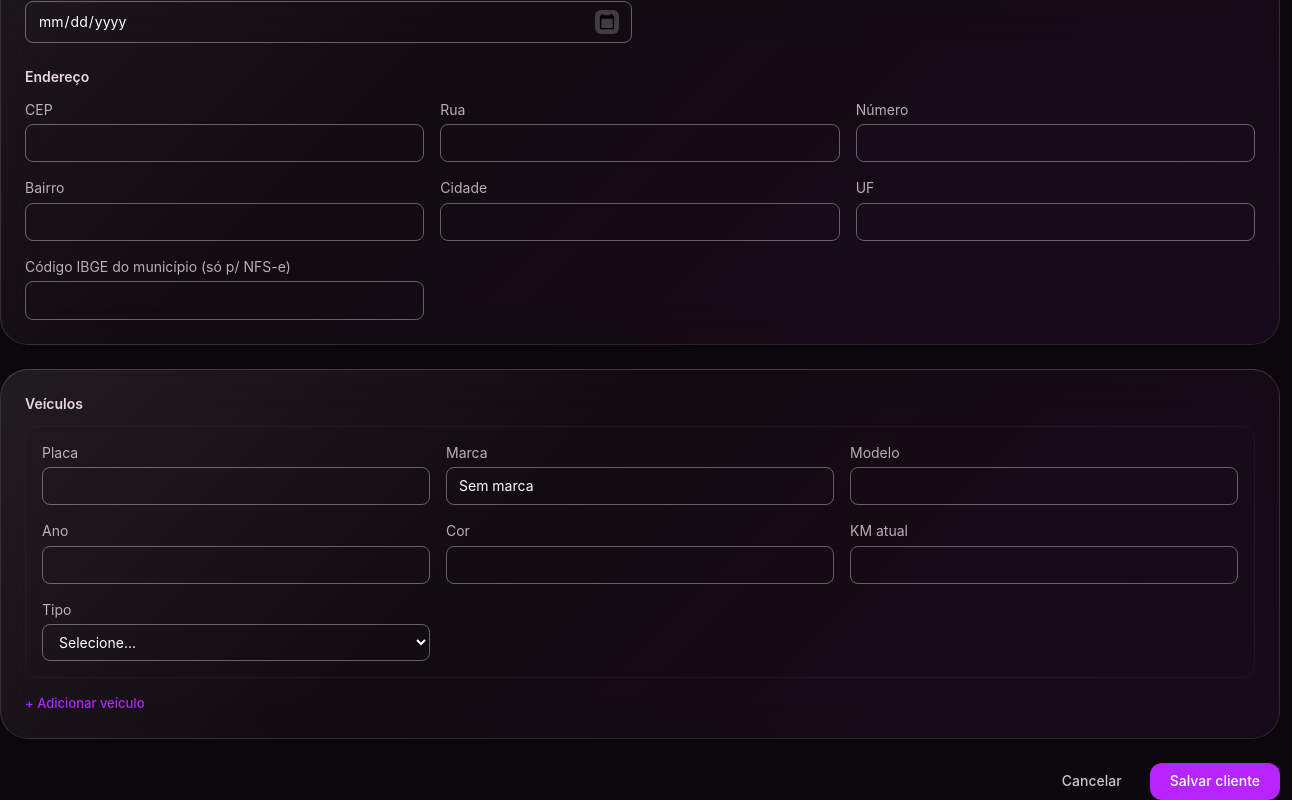
ClienteForm — validação e tipo de pessoa › não salva sem nome, e diz o porquê na tela
The width and height of the screenshot is (1292, 800).
(page scrolled)
Click the button "Salvar cliente".
click(1215, 781)  # box [1150,763,1280,799]
(page scrolled)
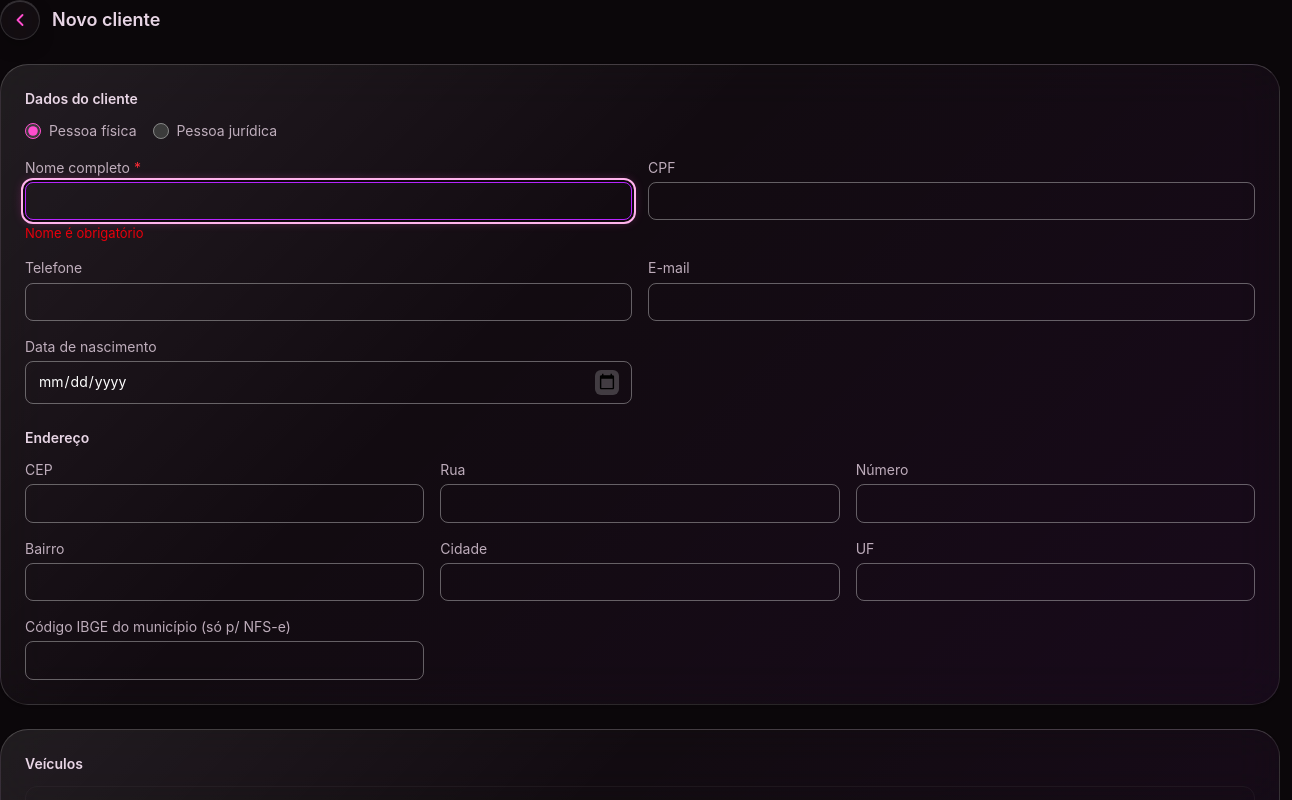
Expected: the text "Nome é obrigatório" is shown, [25,225,144,241]
